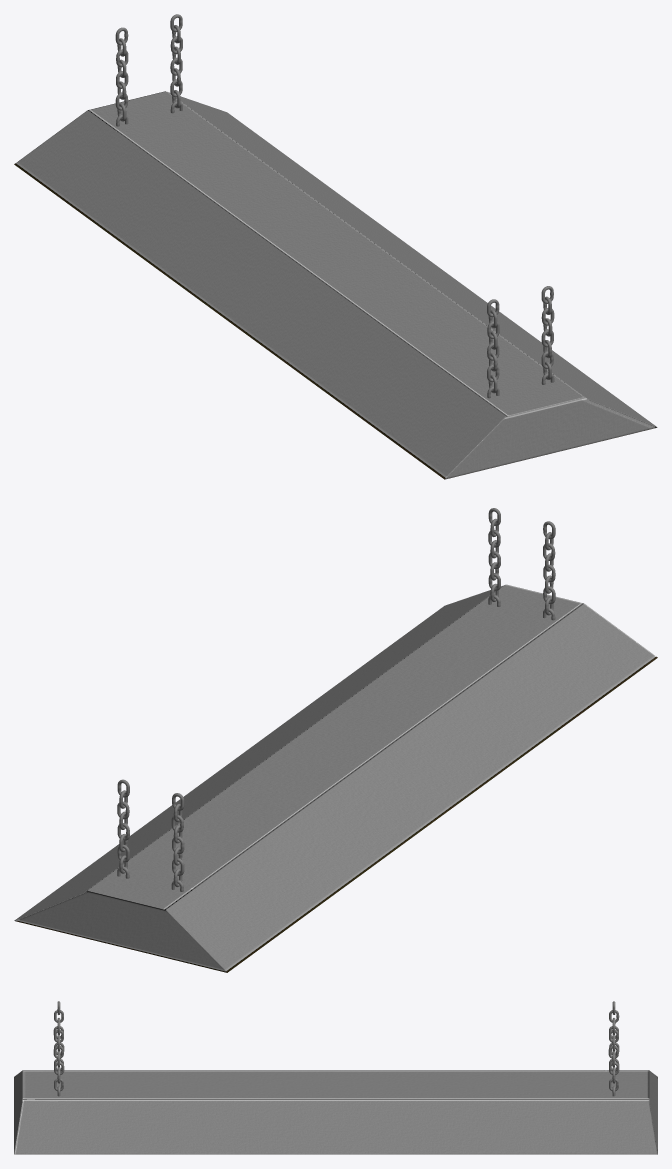
File: CommercialLight.fbx
The picture shows the model from 3 angles, top to bottom: view 1: azimuth 30°, elevation 25°; view 2: azimuth 150°, elevation 25°; view 3: azimuth 270°, elevation 25°; orthographic projection. The views are drawn at different scales.
Parts seen in each view (by area): view 1: Cube; view 2: Cube; view 3: Cube.
Part boxes in pixels (bbox=[...]): Cube: bbox=[14, 91, 657, 479]; Cube: bbox=[14, 584, 657, 972]; Cube: bbox=[14, 1067, 657, 1154].
Bounding box in the file's own units: 1.86 × 1.2 × 6.5.
